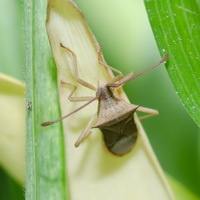insect: (41, 0, 167, 159), (41, 43, 168, 154)
